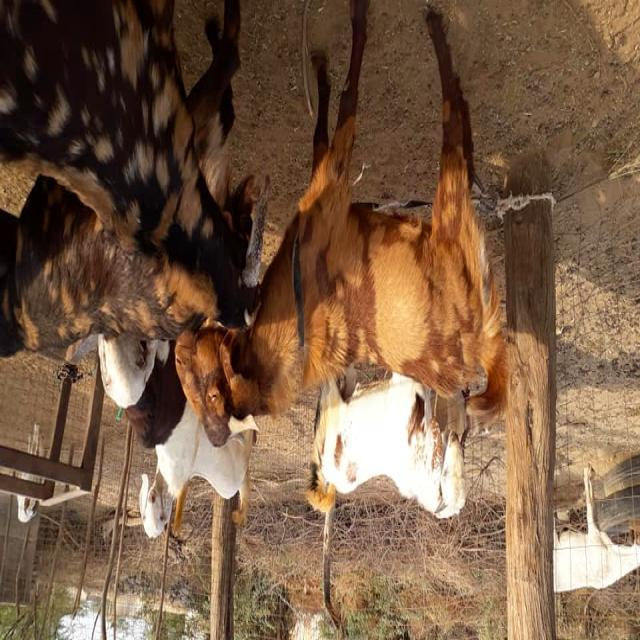Goat: (175, 3, 510, 452), (1, 3, 270, 335), (305, 366, 469, 522), (553, 465, 640, 595), (17, 424, 44, 525)
